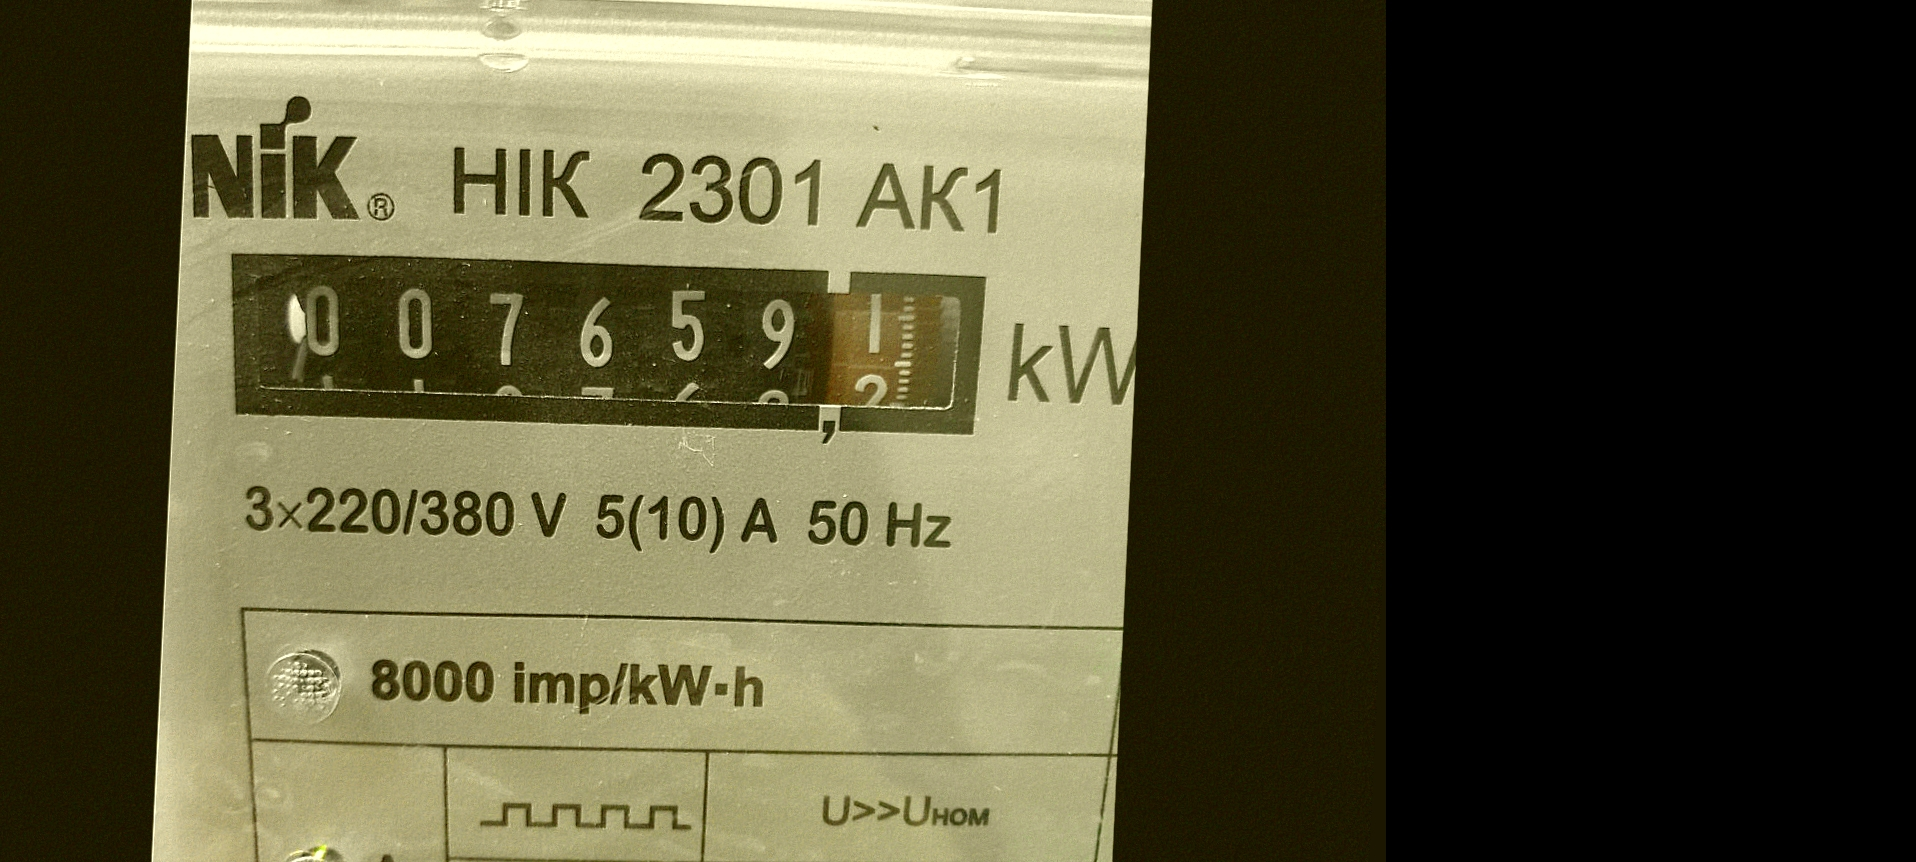0: (384, 278, 444, 366), (296, 275, 349, 367)
1: (858, 286, 896, 363)
5: (662, 282, 712, 367)
6: (569, 289, 623, 373)
7: (481, 286, 527, 372)
9: (754, 290, 800, 380)
screen: (204, 220, 1007, 471)
